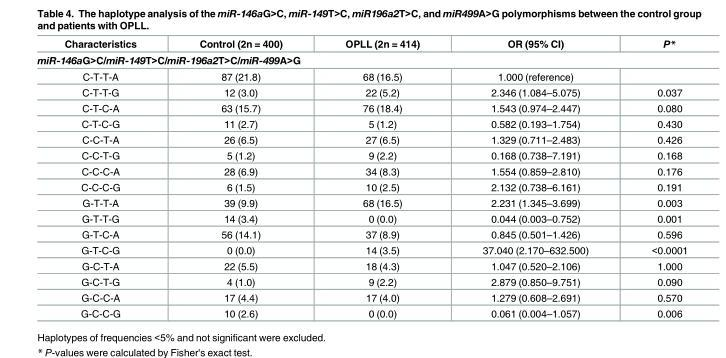table: (36, 37, 687, 318)
table column: (450, 37, 619, 318), (167, 37, 313, 318), (313, 37, 450, 318), (36, 37, 167, 318), (619, 37, 687, 318)
table column header: (36, 37, 687, 68)
table row: (36, 51, 687, 68), (36, 68, 687, 84), (36, 99, 687, 115), (36, 115, 687, 131), (36, 131, 687, 147), (36, 162, 687, 178), (36, 178, 687, 194), (36, 194, 687, 210), (36, 210, 687, 226), (36, 241, 687, 257), (36, 257, 687, 273), (36, 273, 687, 289), (36, 84, 687, 99), (36, 147, 687, 162), (36, 226, 687, 241), (36, 289, 687, 304), (36, 37, 687, 51), (36, 304, 687, 318)
table spanning cell: (36, 51, 687, 68)
